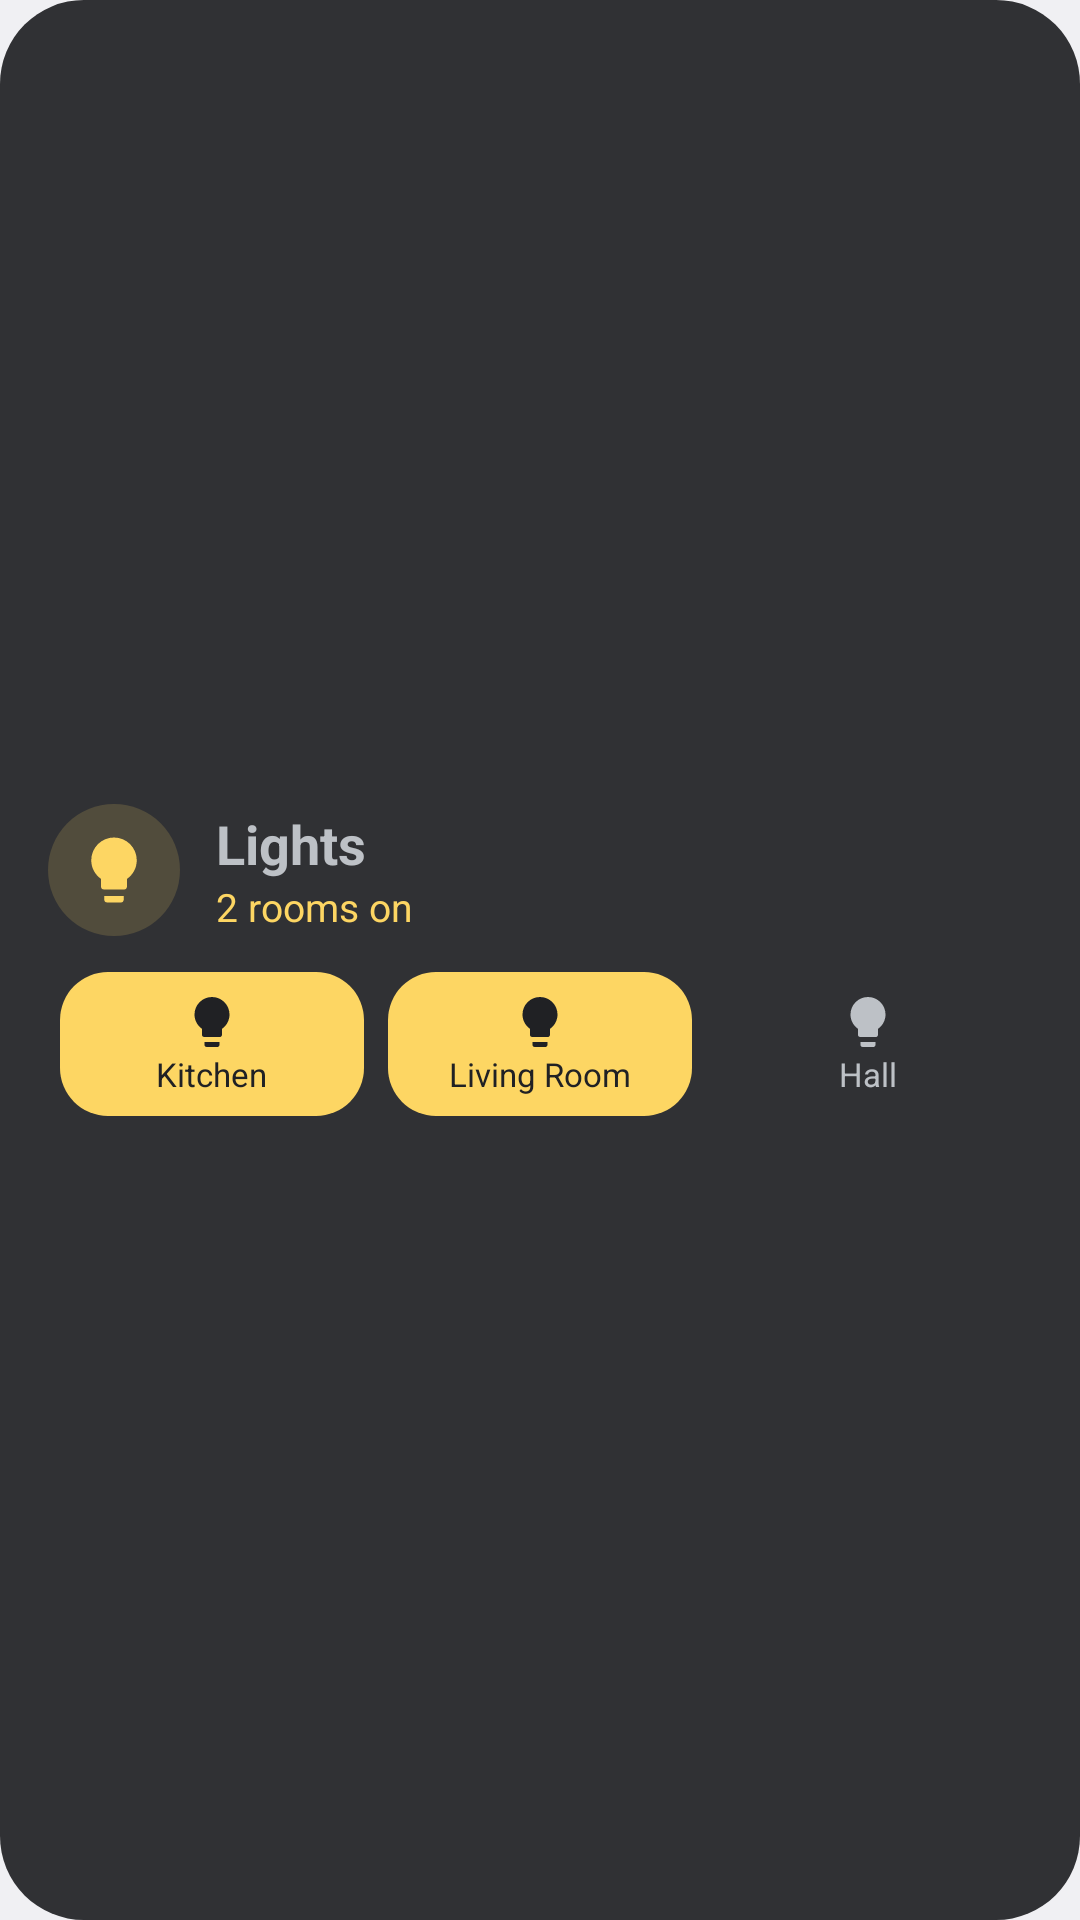

Named icons in this screenshot (1080 × 1920) and their centers, point (x, y):
lightbulb: point (114, 870), point (212, 1022), point (540, 1022), point (868, 1022)
